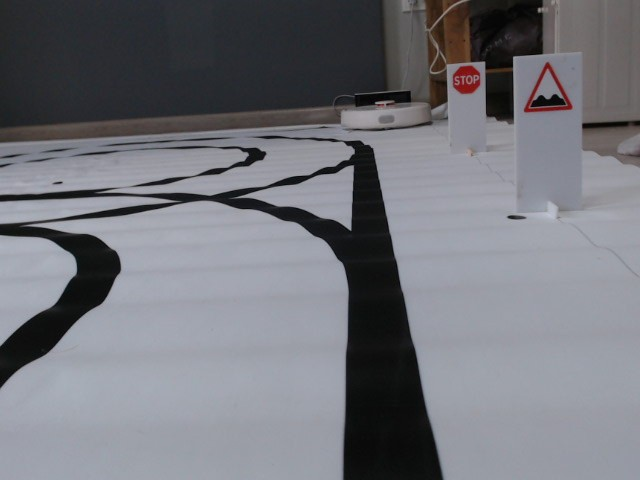Nerov: (522, 60, 575, 112)
